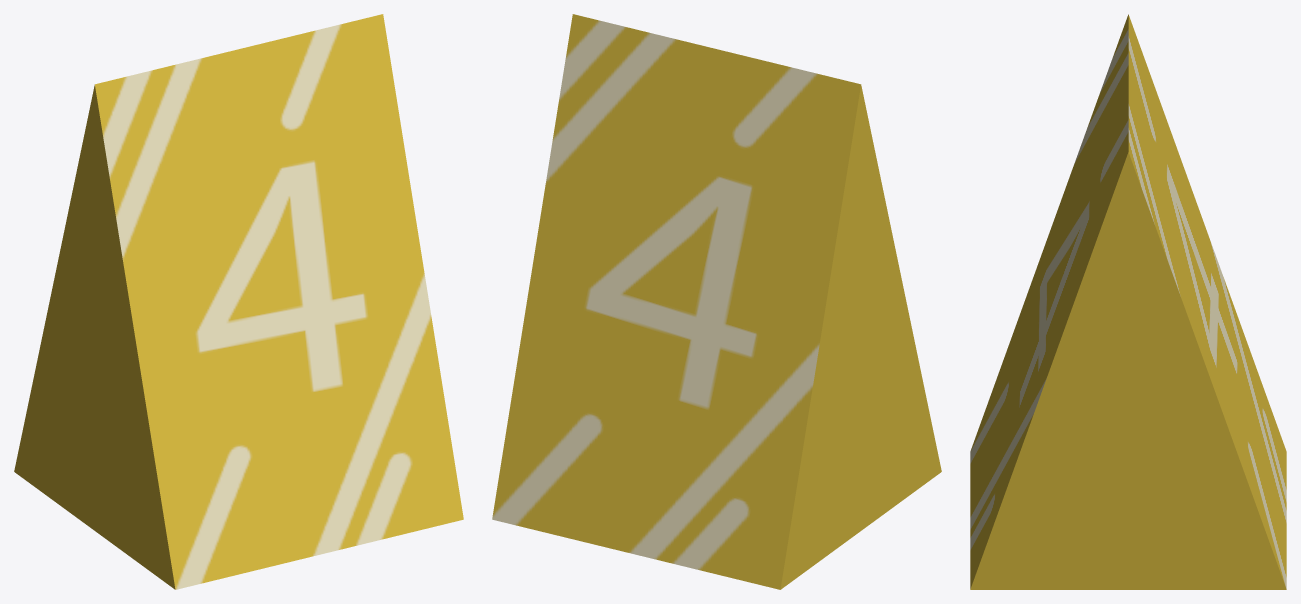
The model's file is ClueMarker4.fbx.
3 views of the same model, side by side, from view 1: azimuth 30°, elevation 25°; view 2: azimuth 150°, elevation 25°; view 3: azimuth 270°, elevation 25° (orthographic).
Visible parts, largest first — view 1: ClueMesh; view 2: ClueMesh; view 3: ClueMesh.
Boxes of the visible parts, x1,y1,x2,y2 form: ClueMesh: [14, 14, 463, 589]; ClueMesh: [492, 14, 941, 589]; ClueMesh: [970, 14, 1286, 589].
Bounding box in the file's own units: 2.56 × 3.79 × 2.48.
2 materials, 2 textured.
